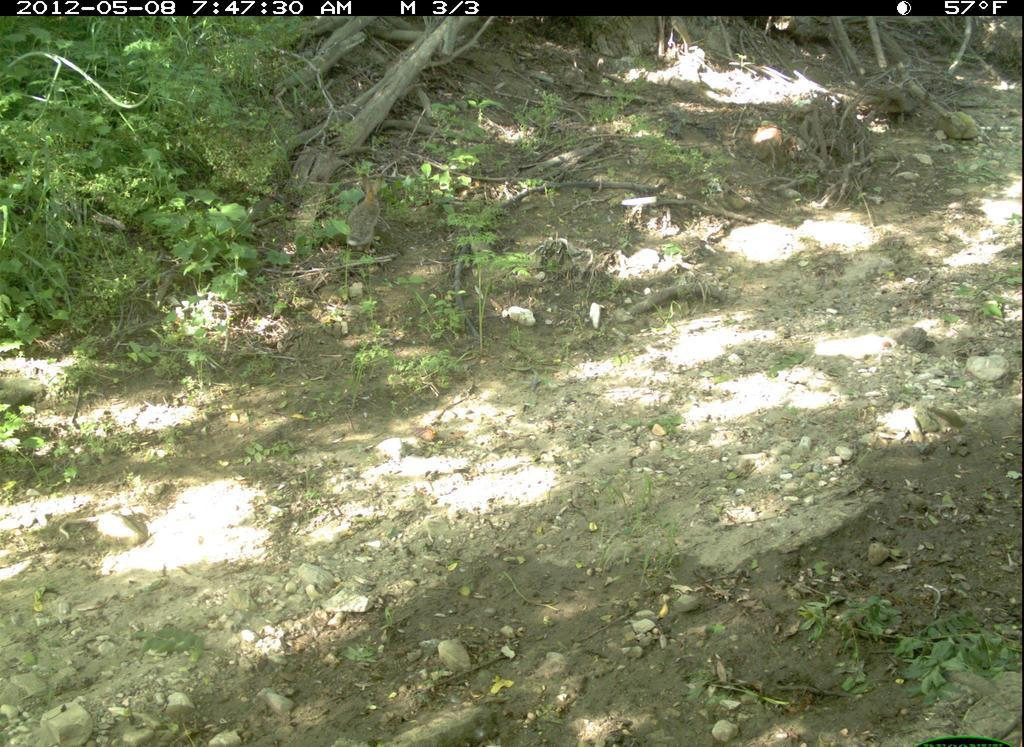rabbit: (335, 164, 413, 262)
